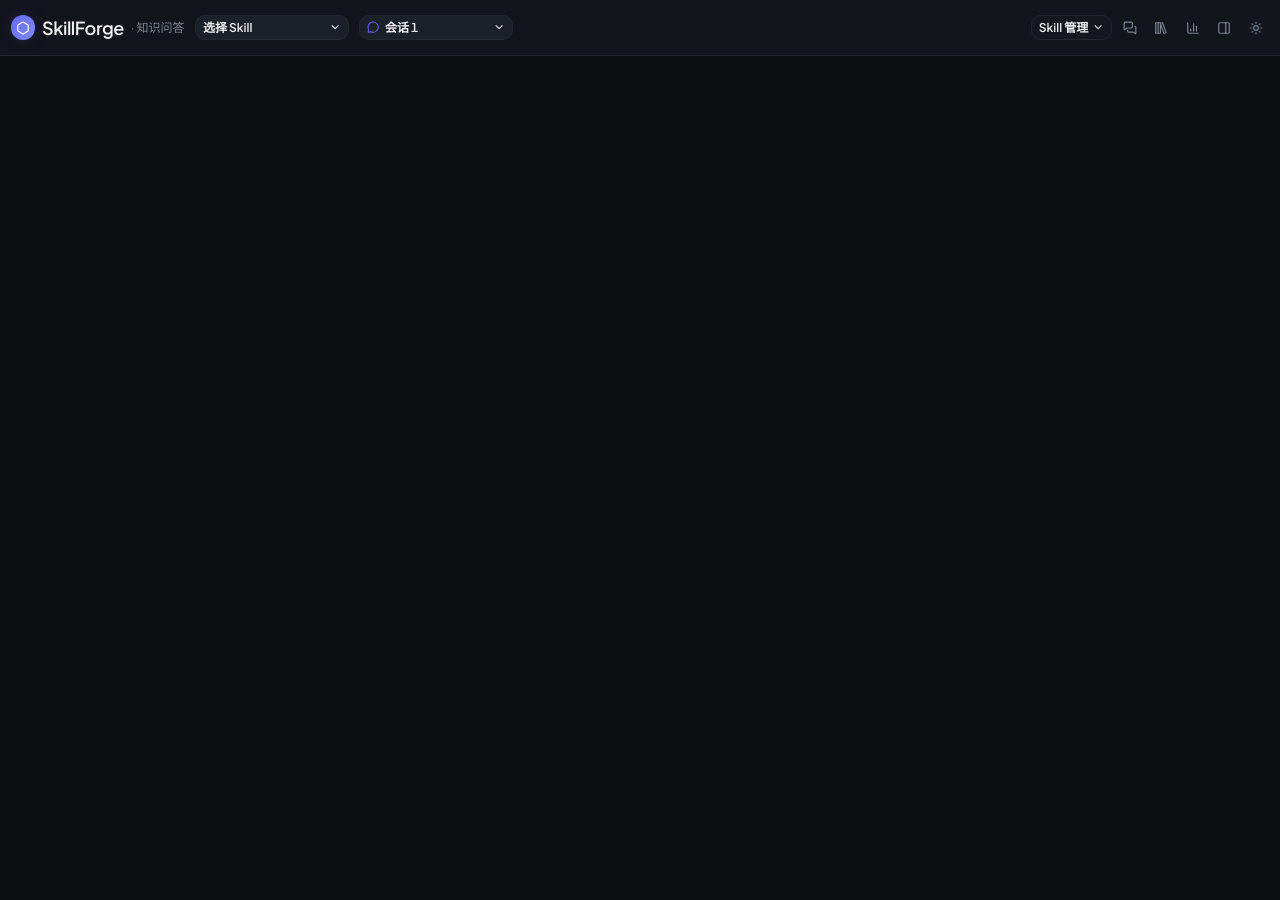
TopBar › opens the KnowledgeModal from the 知识库 button
This screenshot has width=1280, height=900.
Click the button with test id "topbar-knowledge" at (1161, 28), box [1147,14,1175,42]
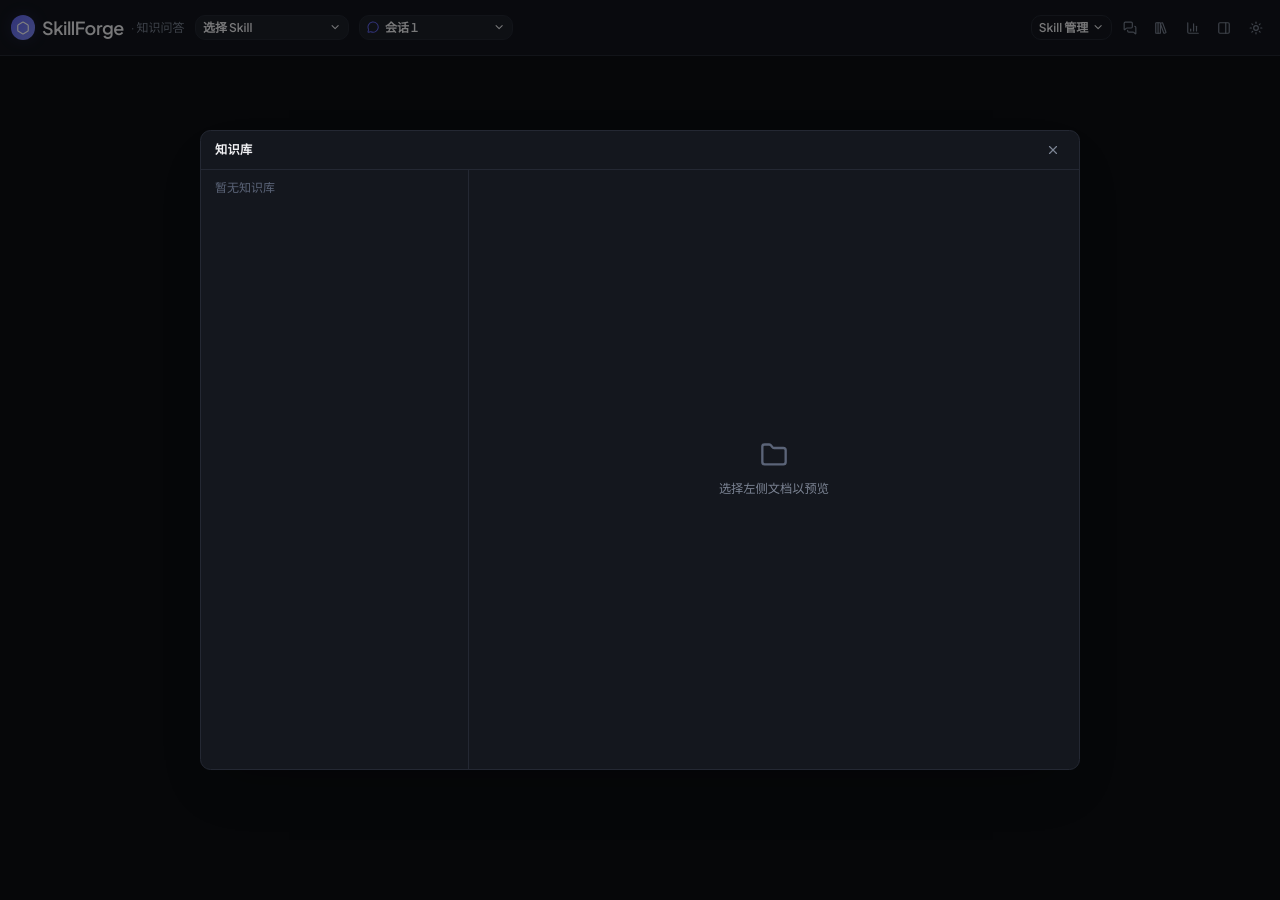
Now the dialog with test id "knowledge-modal" is shown, box [200,130,1080,770]
